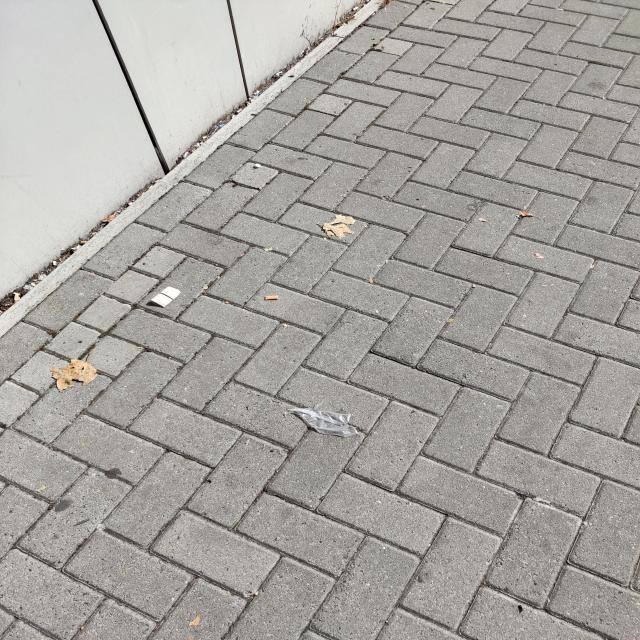litter: (286, 404, 357, 438), (148, 286, 180, 308), (264, 296, 278, 300), (235, 108, 242, 113), (353, 6, 358, 11), (556, 8, 564, 11), (80, 241, 87, 244)
